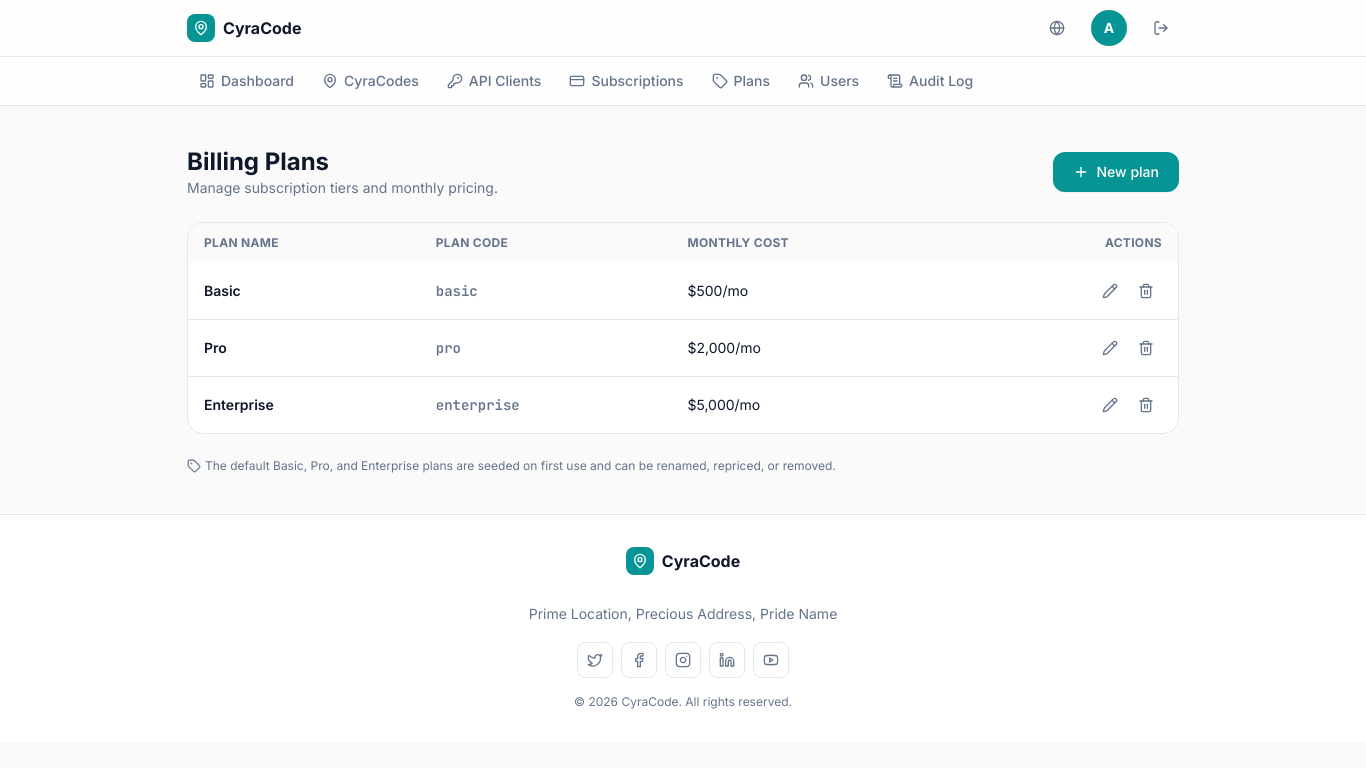
AdminPlans › edits a plan price
Check: the text "Basic" is shown, box [188,263,420,320]
Click the button named "edit basic". click: coordinates (1110, 291)
box: [1094,275,1126,307]
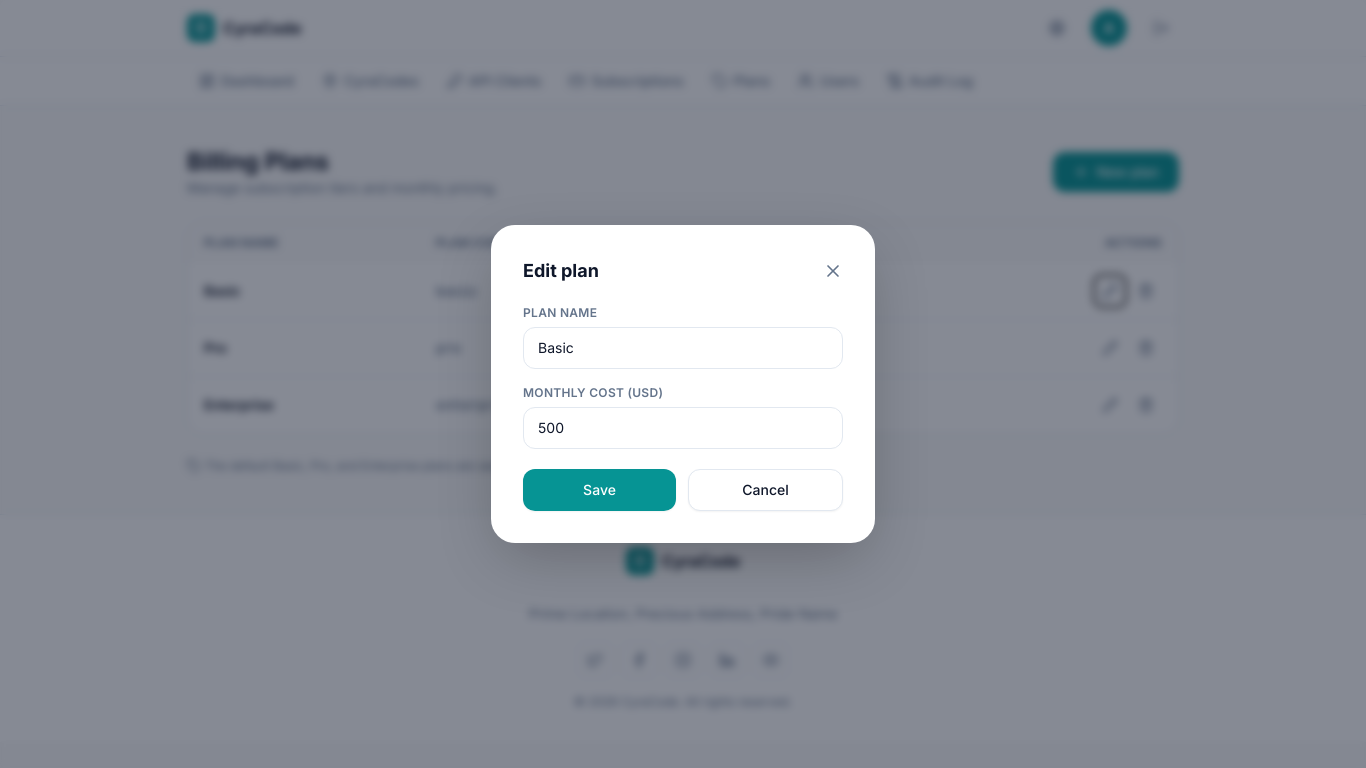
Replace the text in the number field labelled "Monthly cost (USD)" with "750". click: coordinates (683, 428)
box: [523,407,843,449]
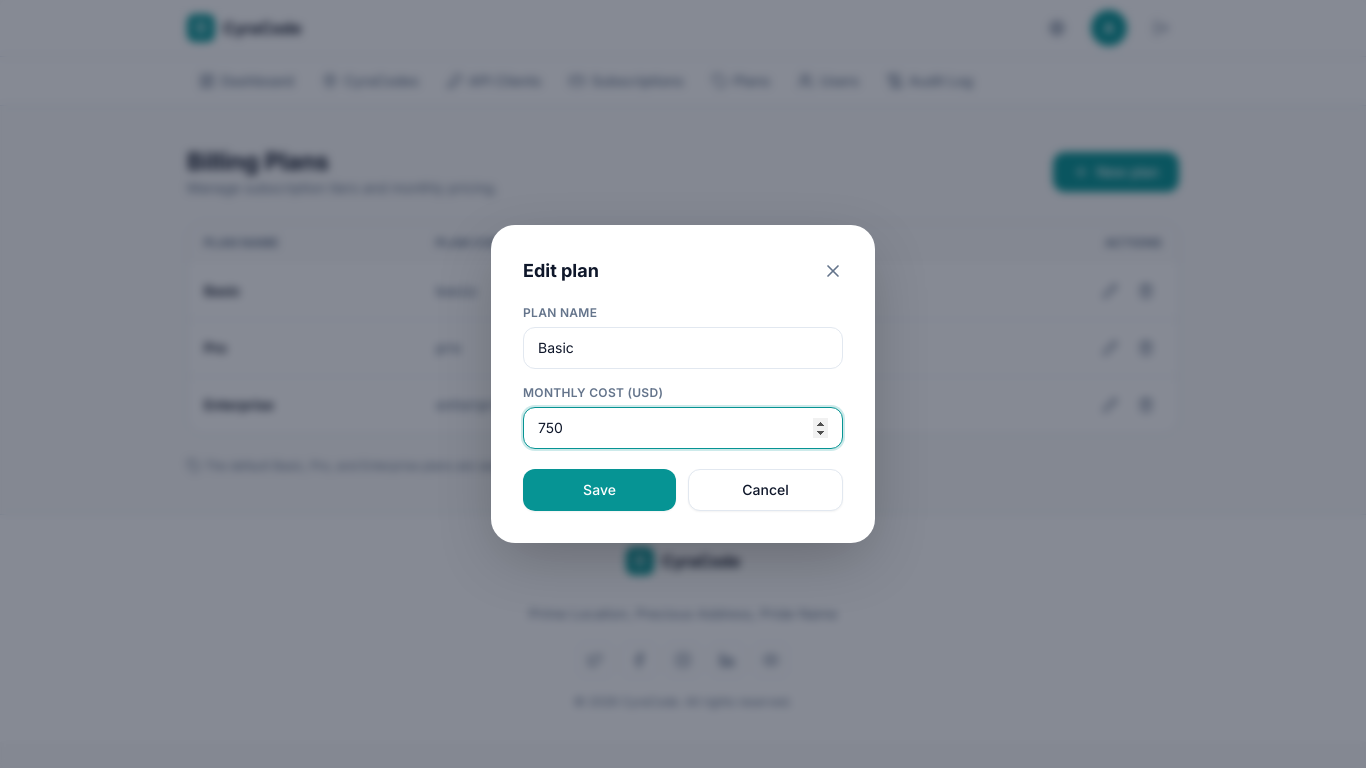
Click the button "Save". click: coordinates (600, 490)
box: [523,469,676,511]
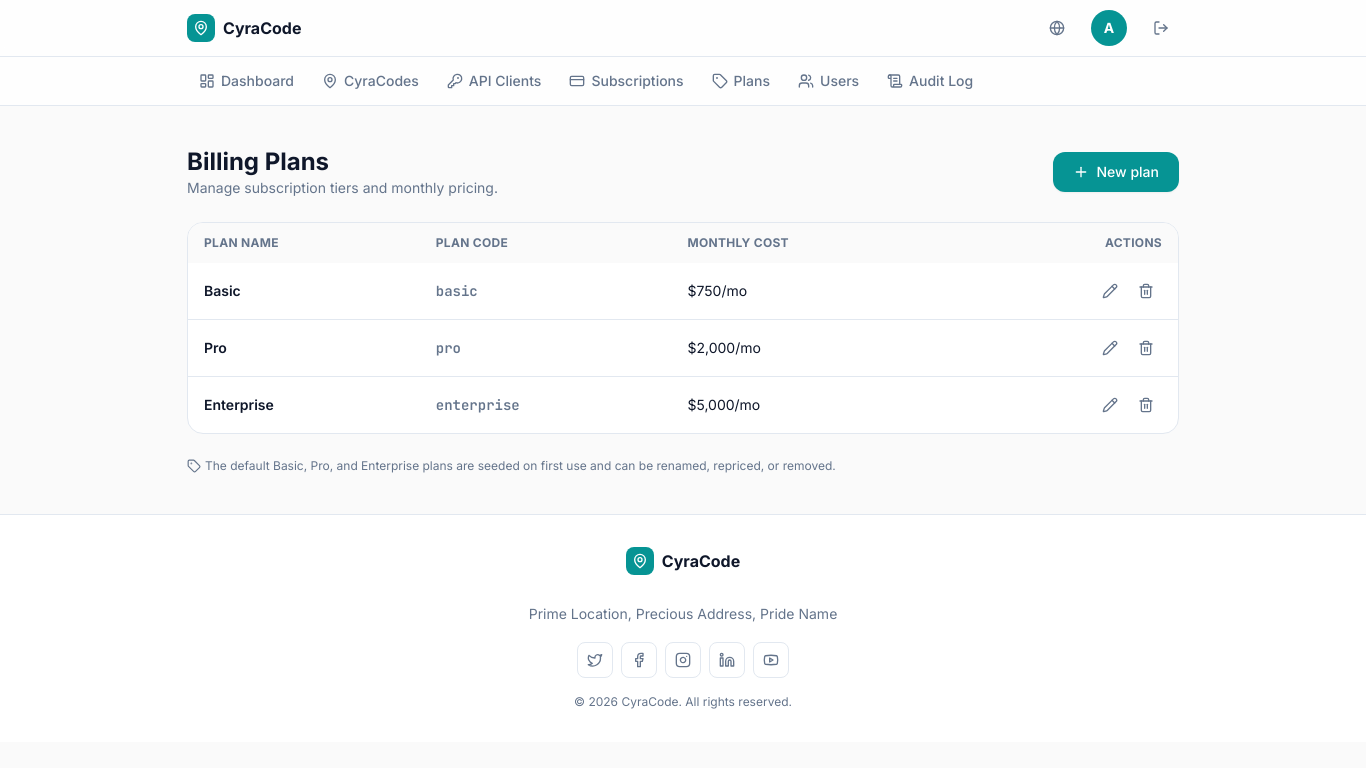
Check: the text "$750/mo" is shown, box [672,263,961,320]
